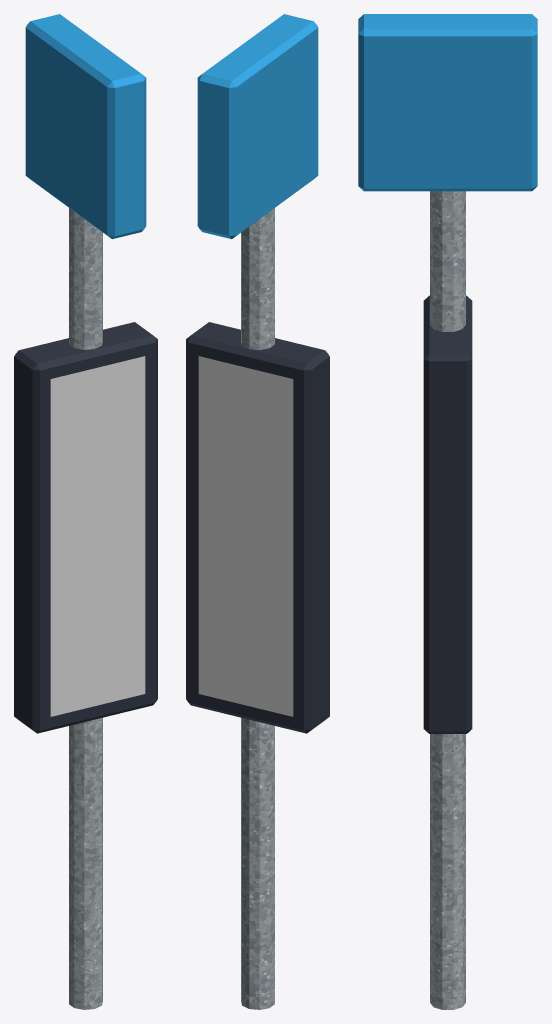
File: bus_stop_pole.glb
3 renders of one model, left to right at view 1: azimuth 30°, elevation 25°; view 2: azimuth 150°, elevation 25°; view 3: azimuth 270°, elevation 25°, orthographic. The views are drawn at different scales.
Parts seen in each view (by area): view 1: Cube.001, Cube, Cylinder; view 2: Cube.001, Cube, Cylinder; view 3: Cube, Cube.001, Cylinder.
Part boxes in pixels (<box>): Cube.001: <box>14,322,157,733</box>; Cube: <box>25,14,146,239</box>; Cylinder: <box>69,208,102,1009</box>; Cube.001: <box>186,322,329,733</box>; Cube: <box>197,14,318,239</box>; Cylinder: <box>241,208,274,1009</box>; Cube: <box>358,14,537,191</box>; Cube.001: <box>423,295,472,733</box>; Cylinder: <box>430,191,465,1009</box>.
Size of the model in its own units: 0.415 by 3.02 by 0.5.
4 materials, 1 textured.
